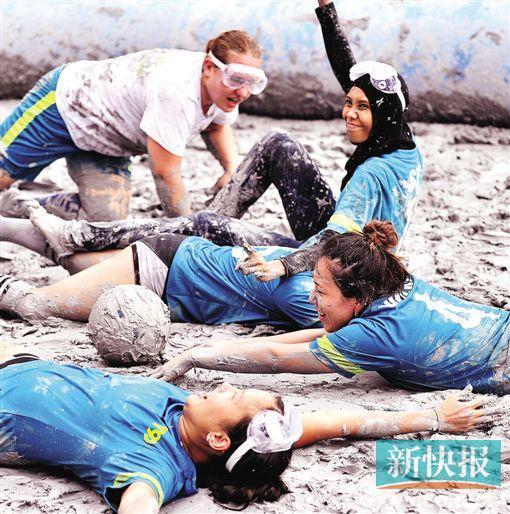Fall-Detected: (13, 336, 279, 510)
